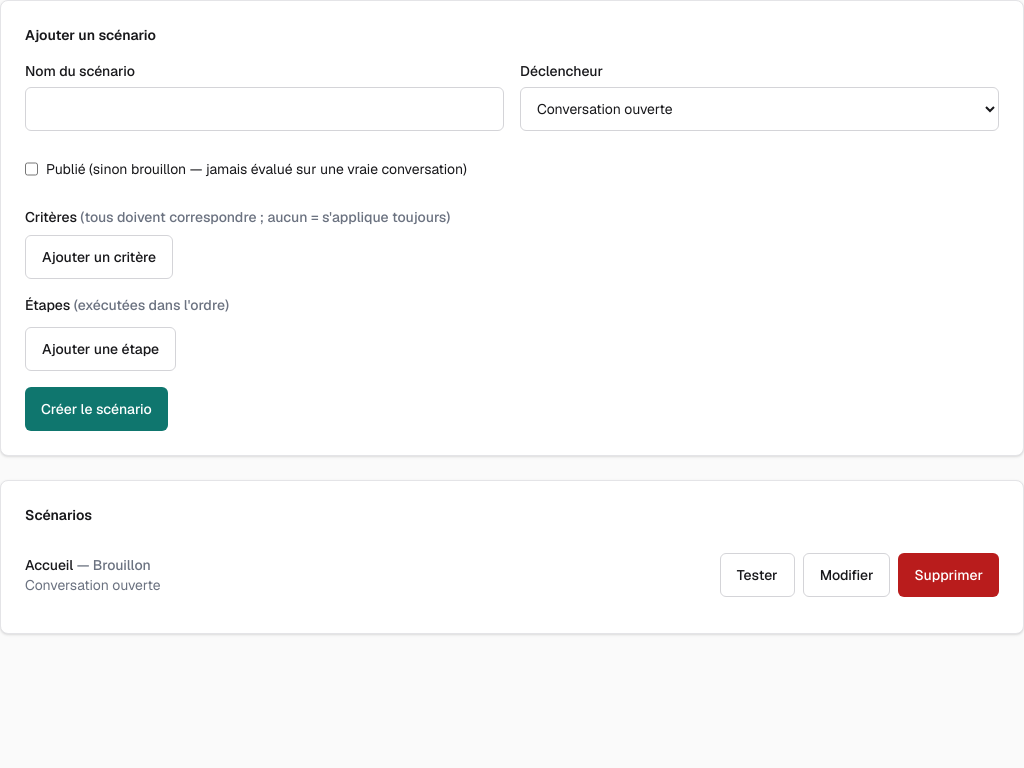
Scenario: AutomationScenariosPage › supprime un scenario
Expected: the text "Accueil" is shown, x1=25 y1=556 x2=73 y2=574
Click the button "Supprimer".
click(949, 575)  # box x1=898 y1=553 x2=999 y2=597
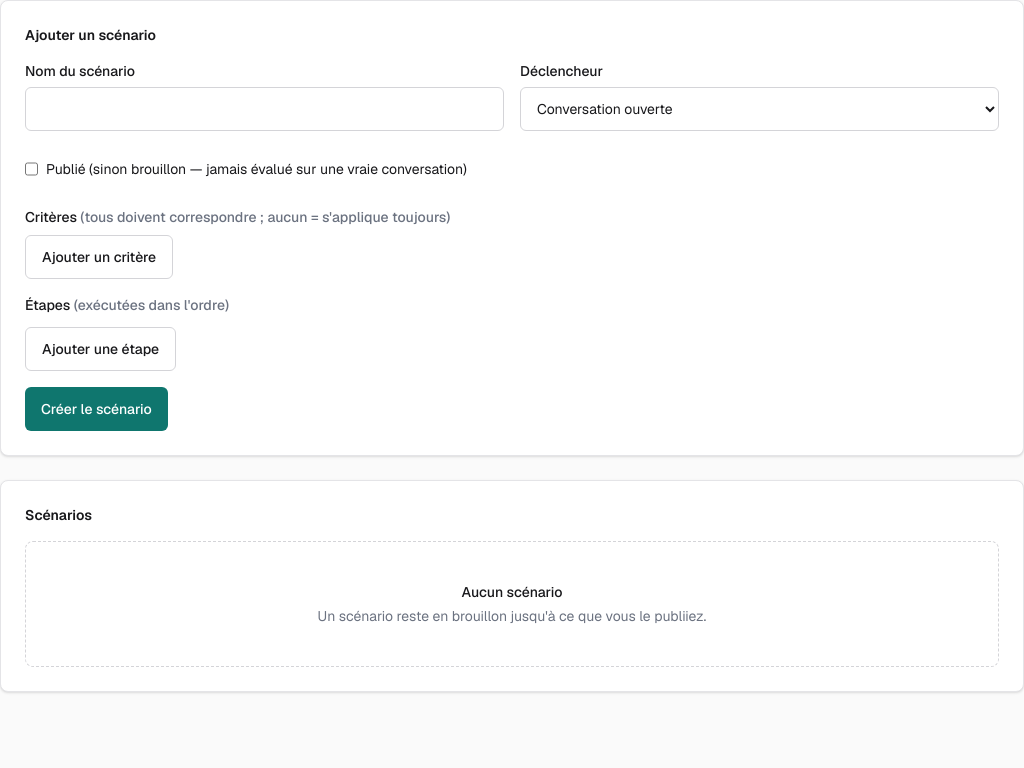
Now the text "Accueil" is gone
